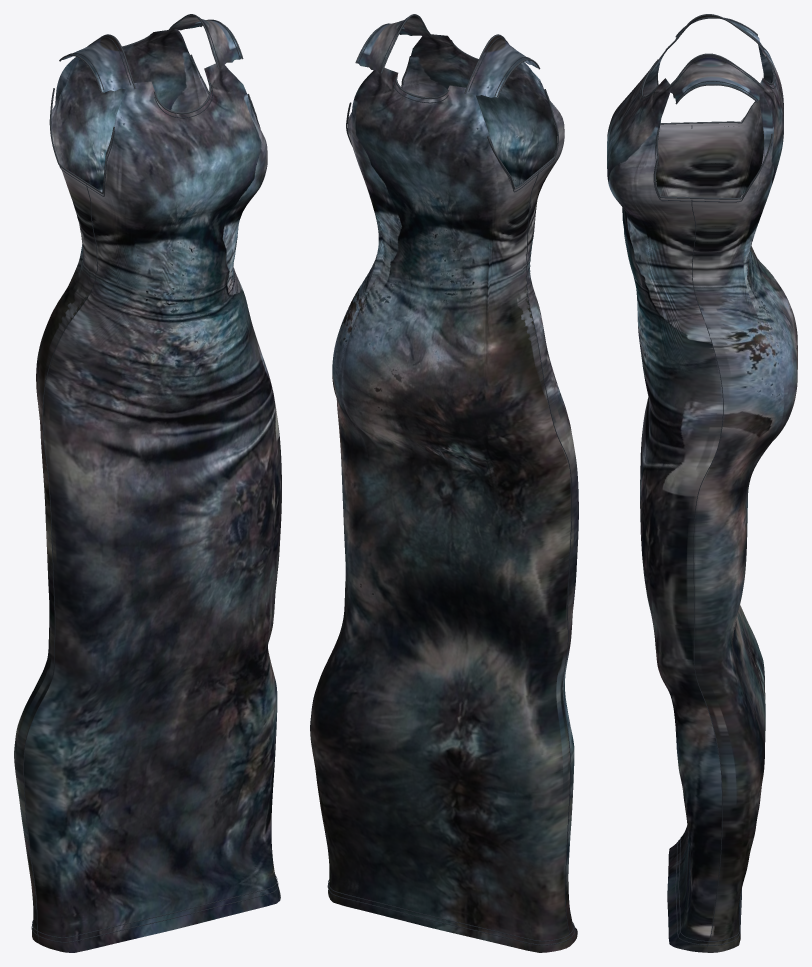
The model's file is vestido-largo-estampado_S.glb.
3 views of the same model, side by side, from view 1: azimuth 30°, elevation 25°; view 2: azimuth 150°, elevation 25°; view 3: azimuth 270°, elevation 25° (orthographic). The views are drawn at different scales.
Parts seen in each view (by area): view 1: vestido-frente, vestido-espalda, tirante (×2), pespunte; view 2: vestido-espalda, vestido-frente, tirante (×2), pespunte; view 3: vestido-espalda, vestido-frente, tirante, pespunte, ribete.
Boxes of the visible parts, <box> form: vestido-frente: <box>24,61,281,952</box>; vestido-espalda: <box>14,29,208,943</box>; tirante (×2): <box>62,15,241,92</box>; pespunte: <box>23,184,97,939</box>; vestido-espalda: <box>310,67,572,952</box>; vestido-frente: <box>402,34,578,942</box>; tirante (×2): <box>356,15,537,97</box>; pespunte: <box>526,172,572,940</box>; vestido-espalda: <box>692,44,797,952</box>; vestido-frente: <box>607,46,722,952</box>; tirante: <box>670,53,764,102</box>; pespunte: <box>691,200,723,949</box>; ribete: <box>654,129,772,199</box>.
Size of the model in its own units: 0.4154 by 1.41 by 0.282.
3 materials, 1 textured.
